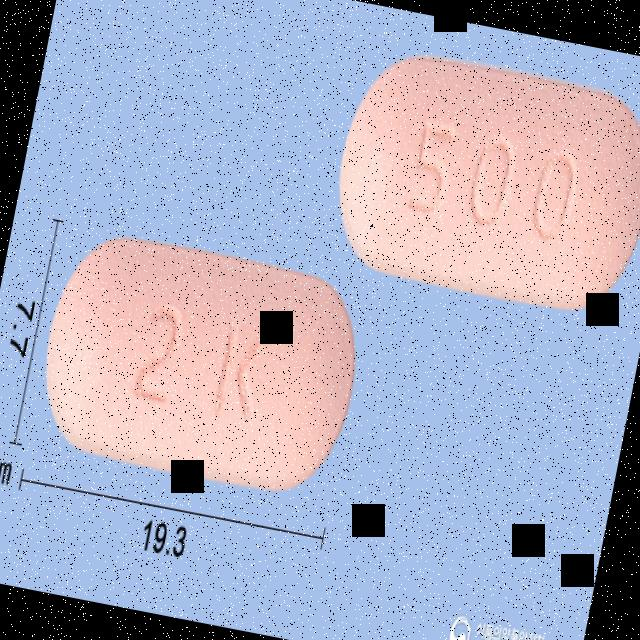Liflocin: (29, 227, 373, 505), (322, 39, 640, 322)
